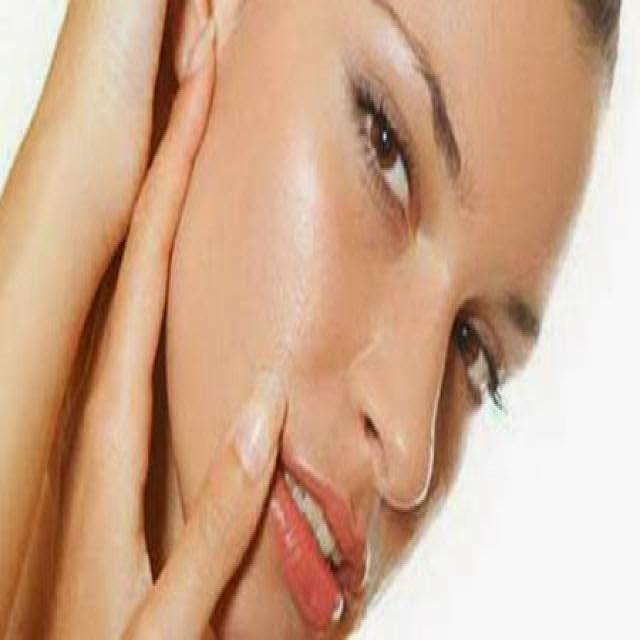oily: (282, 123, 338, 398)
